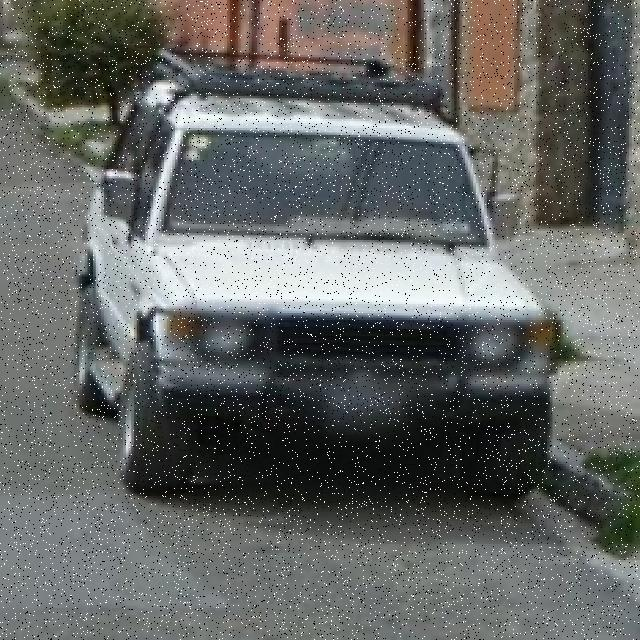cars: (79, 72, 567, 501)
